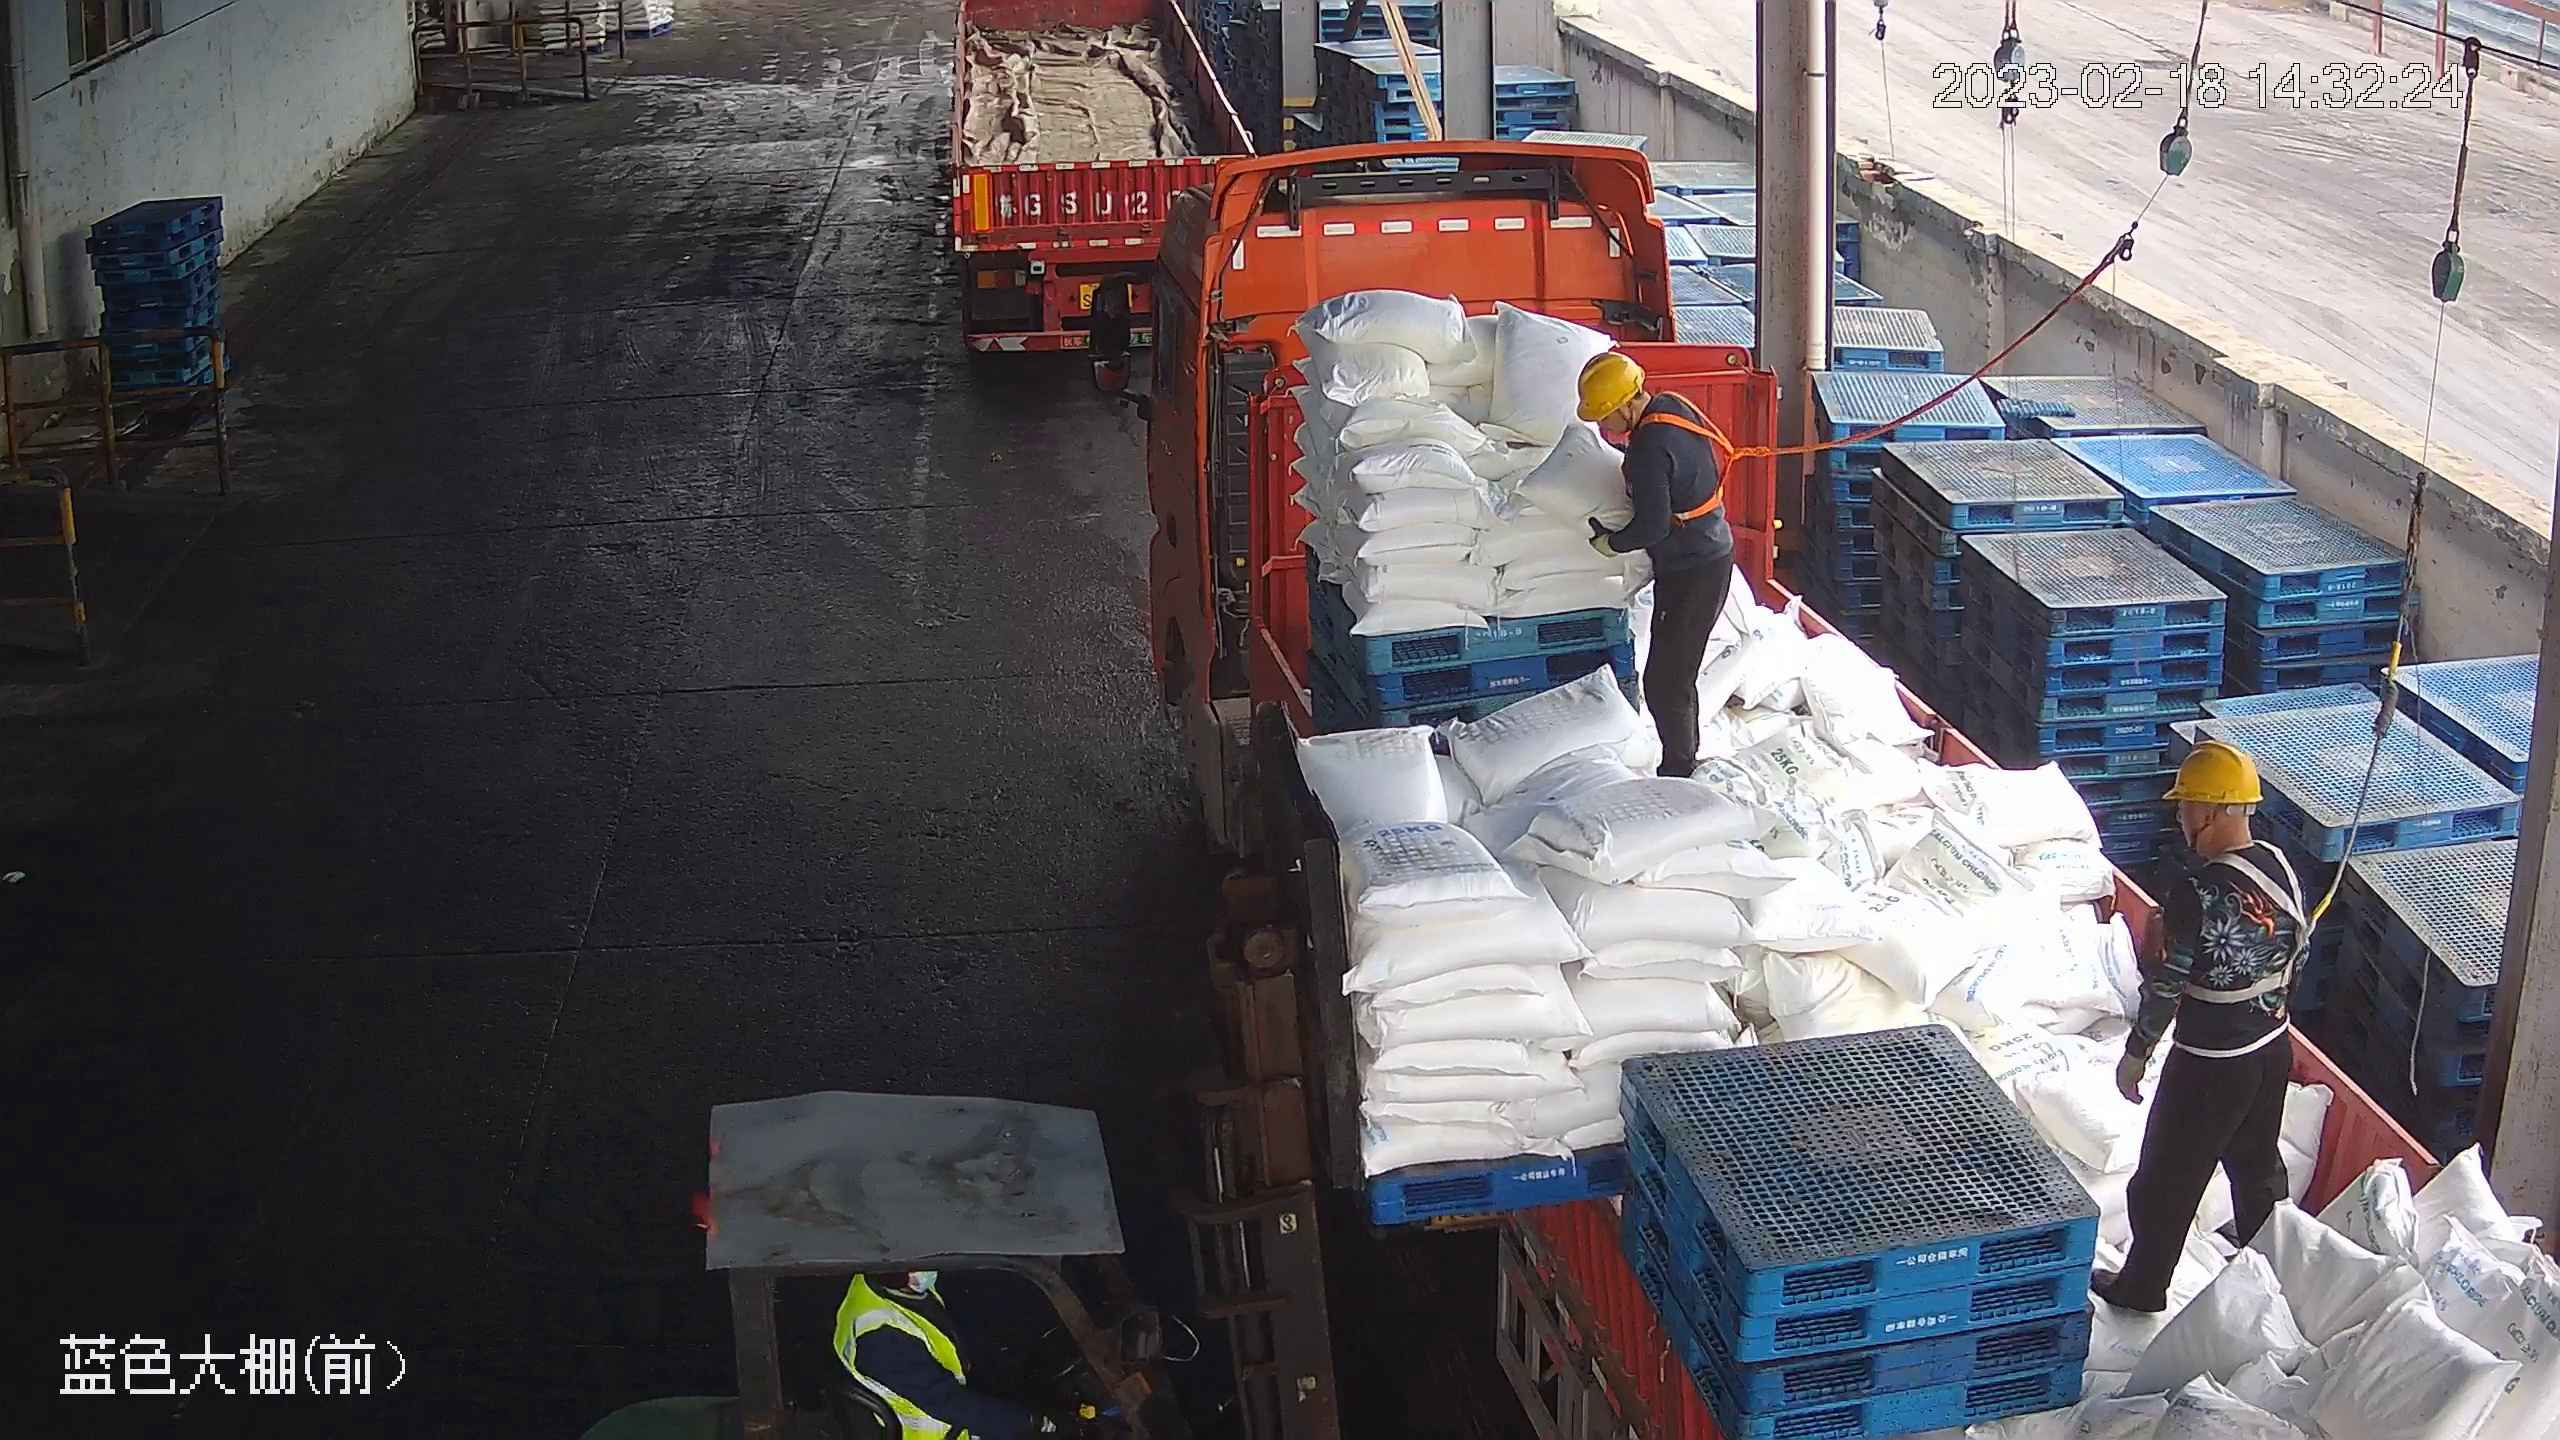belt: (2187, 844, 2326, 1023), (1639, 390, 1756, 524)
head: (2140, 734, 2314, 934), (1572, 352, 1719, 502)
helmet: (2162, 735, 2265, 807), (1576, 351, 1646, 422)
people: (2091, 738, 2322, 1322), (1573, 348, 1739, 778), (833, 1252, 1078, 1440)
truck: (1083, 145, 2557, 1434), (939, 3, 1265, 379)
